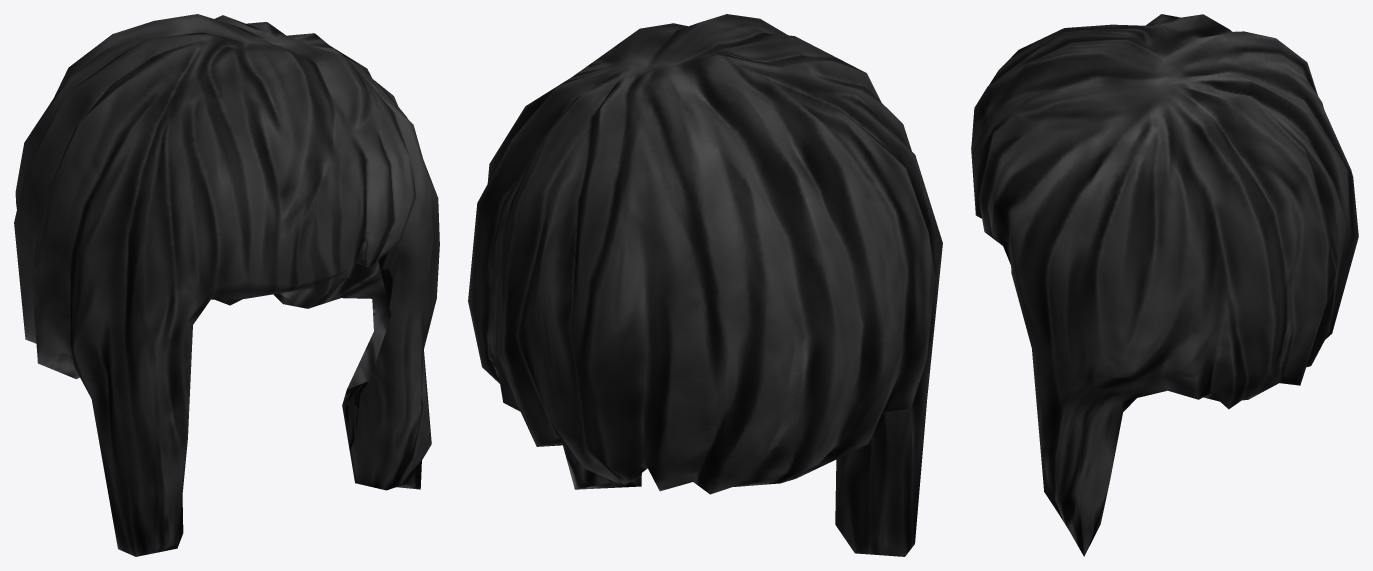
The model's file is AF_M_hair_G_23.fbx.
3 views of the same model, side by side, from view 1: azimuth 30°, elevation 25°; view 2: azimuth 150°, elevation 25°; view 3: azimuth 270°, elevation 25° (orthographic). The views are drawn at different scales.
Visible parts, largest first — view 1: AF_M_hair_G_23; view 2: AF_M_hair_G_23; view 3: AF_M_hair_G_23.
Boxes of the visible parts, left/top/right/bottom form: AF_M_hair_G_23: left=14, top=14, right=439, bottom=556; AF_M_hair_G_23: left=468, top=14, right=942, bottom=556; AF_M_hair_G_23: left=971, top=14, right=1358, bottom=556.
Bounding box in the file's own units: 780 × 930 × 725.
